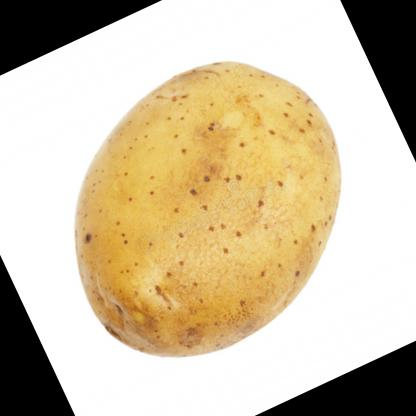potato: (16, 22, 399, 394)
